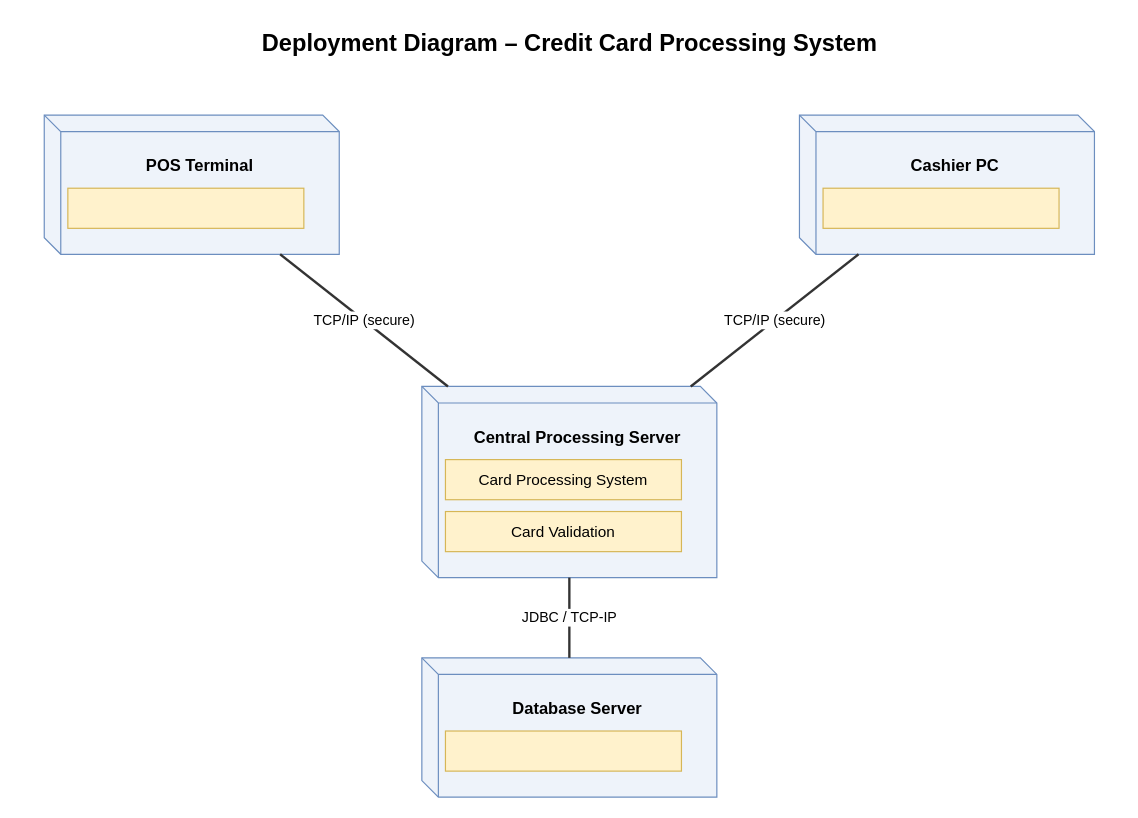
Some shapes in this 1138 by 818 pixel diagram are drawn without their labels. The centre of each missing label's shape, as x and y in pixels:
"Billing App" belongs at point 940,207.
"Card & Transaction DB" belongs at point 562,750.
"Card Reader App" belongs at point 185,207.
